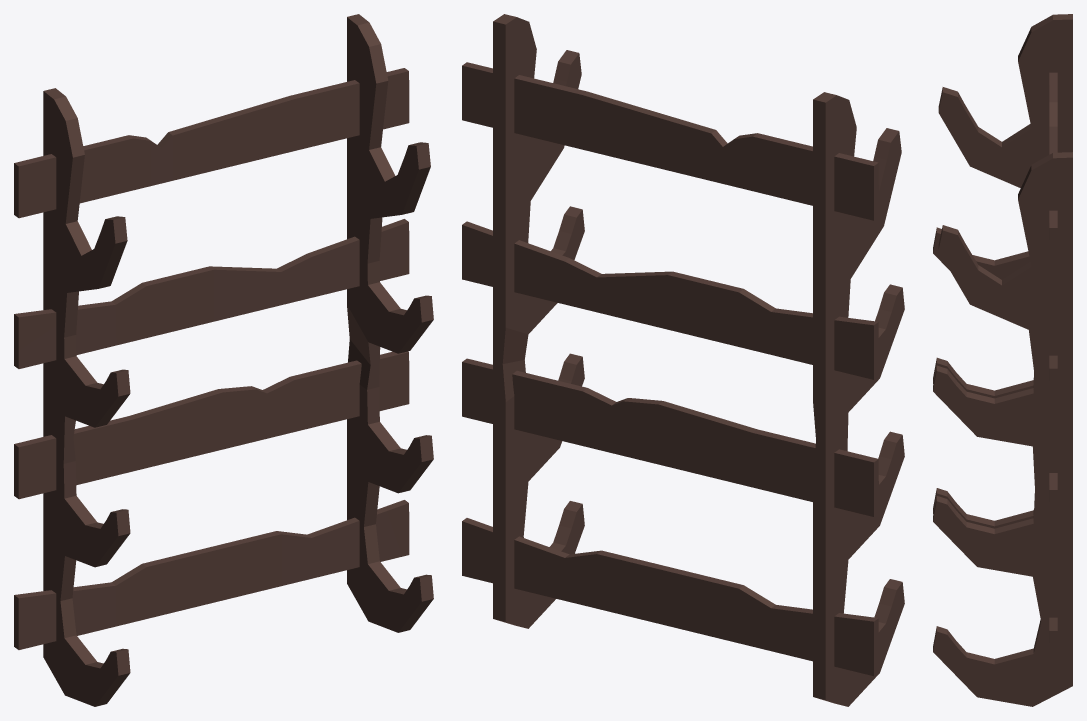
The model's file is Sword Wall Mount.glb.
3 renders of one model, left to right at view 1: azimuth 30°, elevation 25°; view 2: azimuth 150°, elevation 25°; view 3: azimuth 270°, elevation 25°, orthographic. The views are drawn at different scales.
Parts seen in each view (by area): view 1: Sword_WallMount; view 2: Sword_WallMount; view 3: Sword_WallMount.
Boxes of the visible parts, left/top/right/bottom form: Sword_WallMount: left=14, top=14, right=433, bottom=706; Sword_WallMount: left=462, top=14, right=904, bottom=706; Sword_WallMount: left=933, top=14, right=1072, bottom=706.
Bounding box in the file's own units: 0.5879 × 0.8471 × 0.1956.
